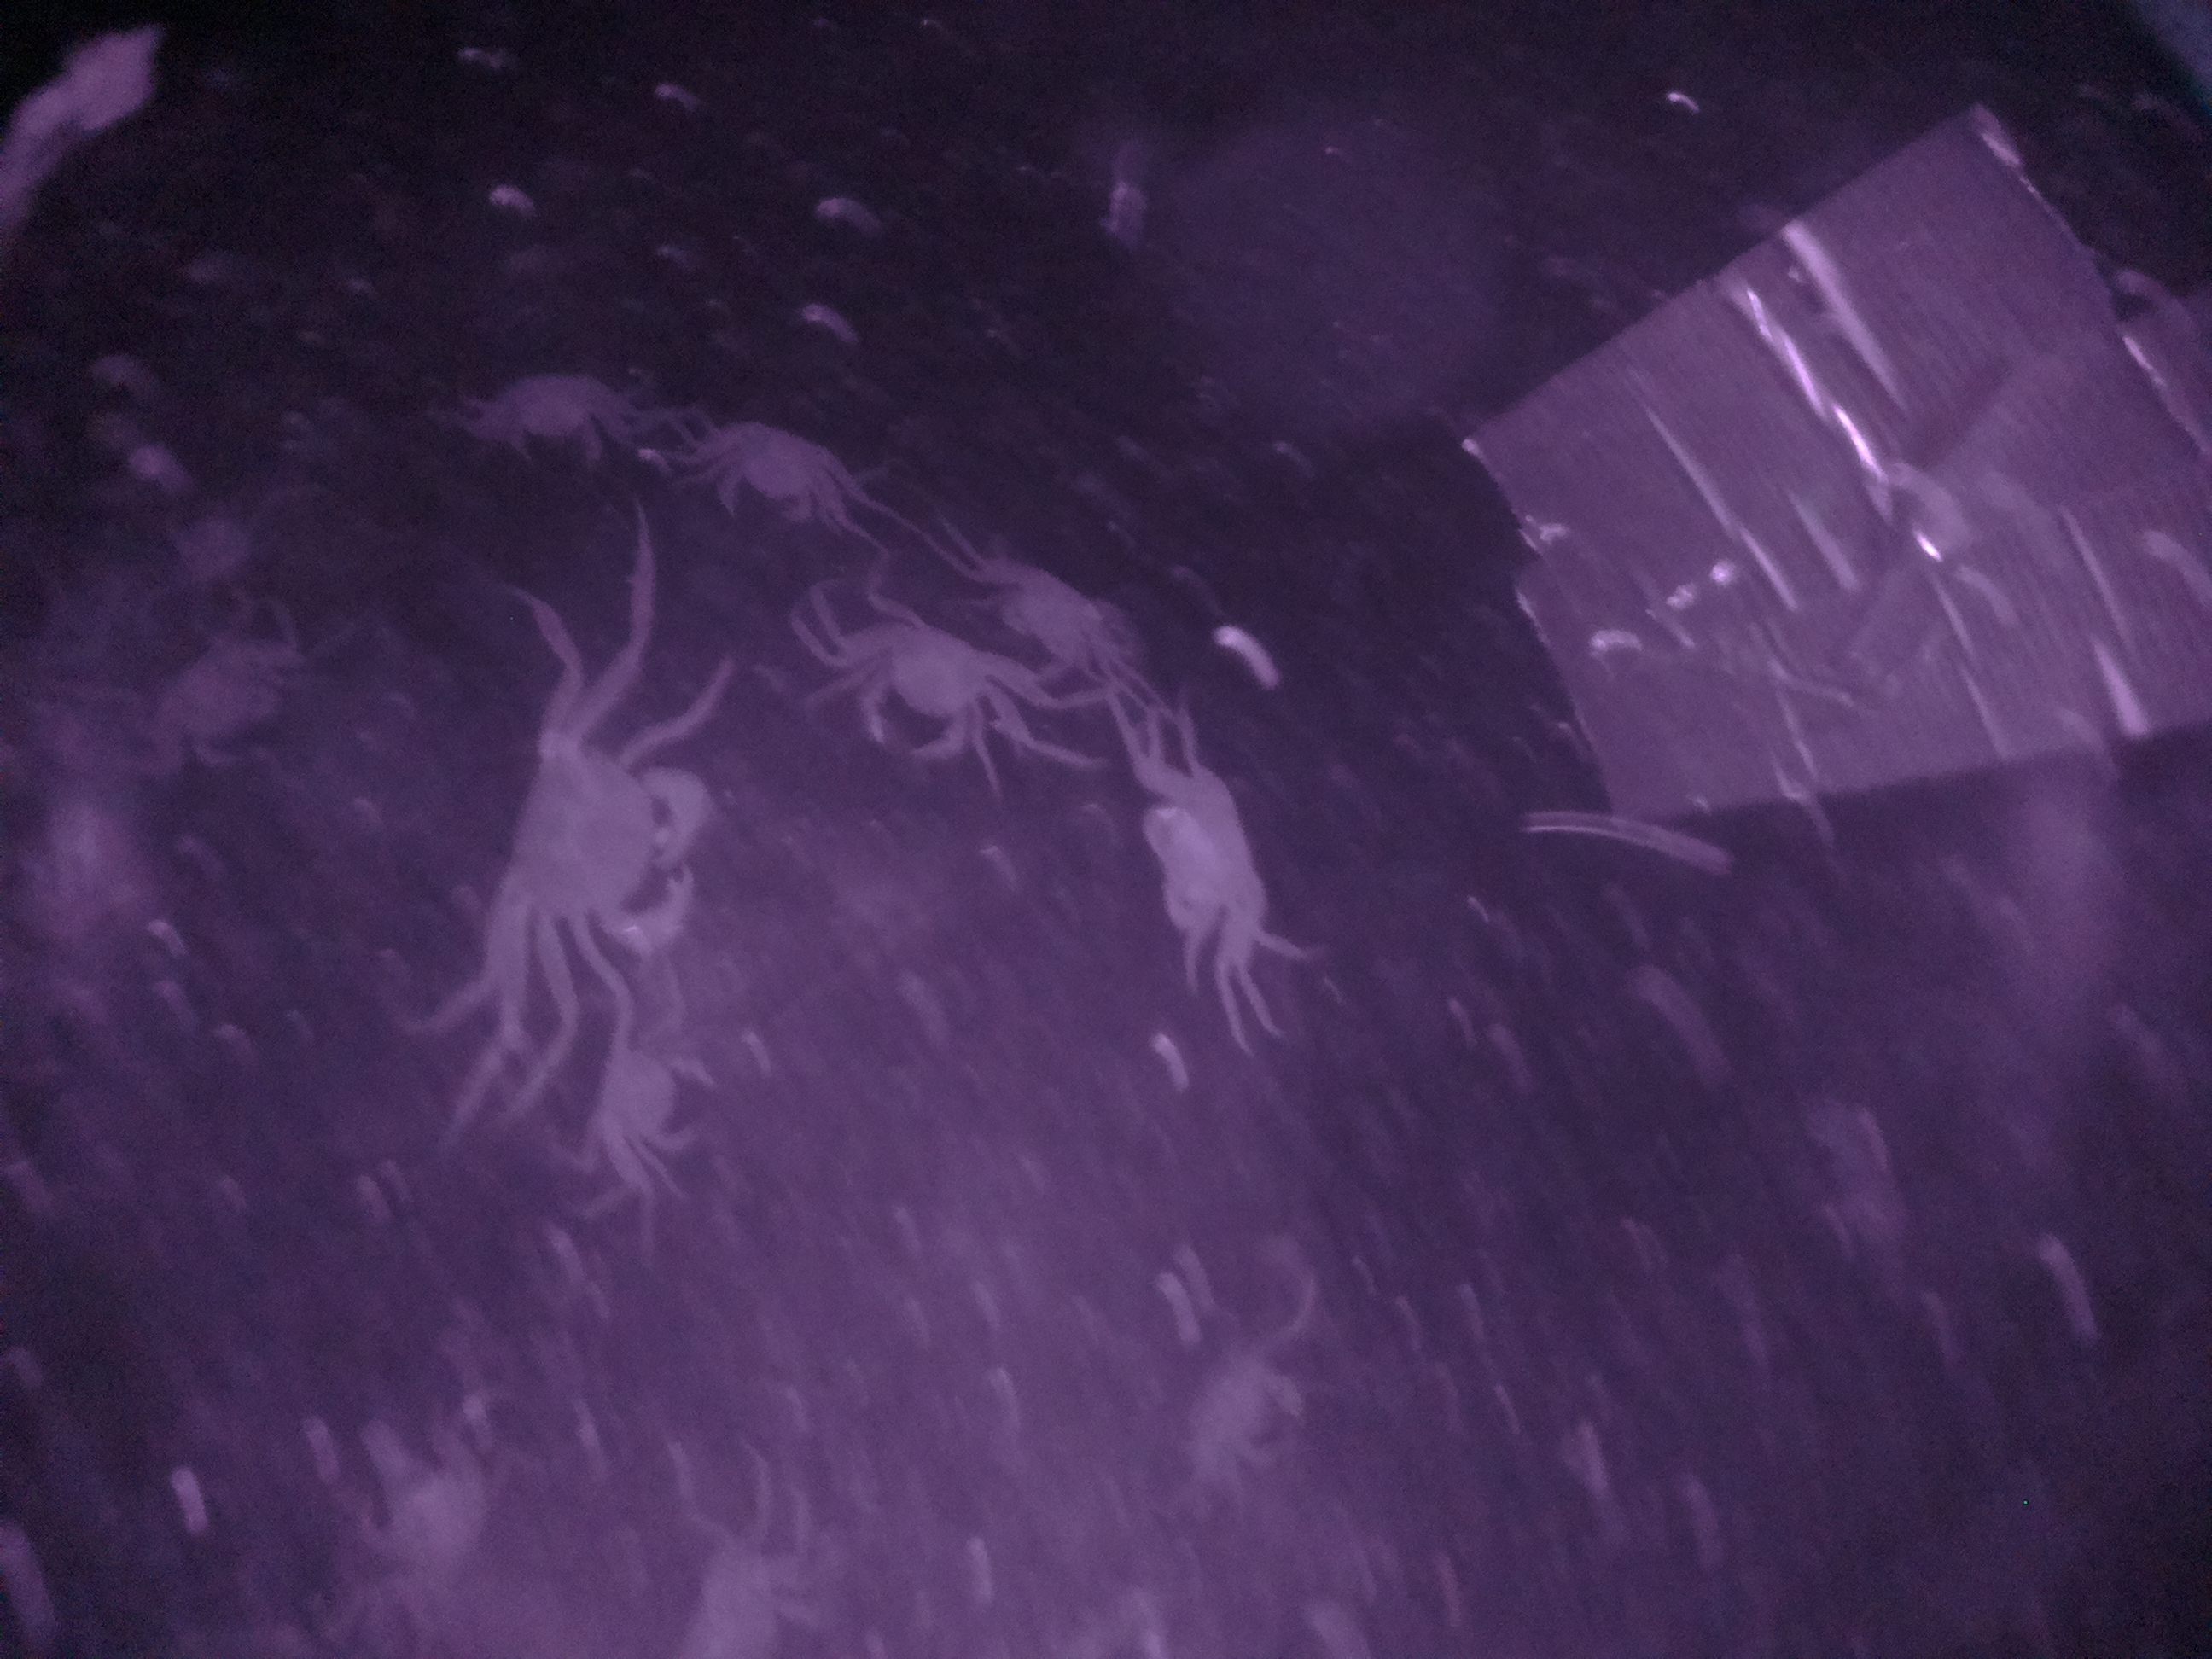Crab: (486, 713, 719, 974), (829, 615, 1021, 775), (1129, 755, 1277, 958), (665, 404, 864, 538), (557, 1016, 721, 1164)
